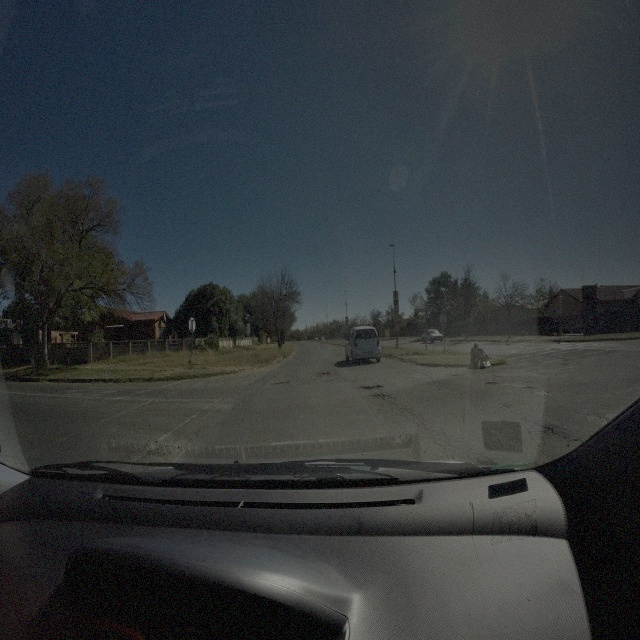pothole: (270, 378, 291, 387), (540, 424, 552, 439), (361, 384, 384, 391), (371, 395, 388, 401), (484, 380, 498, 386), (320, 369, 330, 376), (524, 384, 534, 389)
